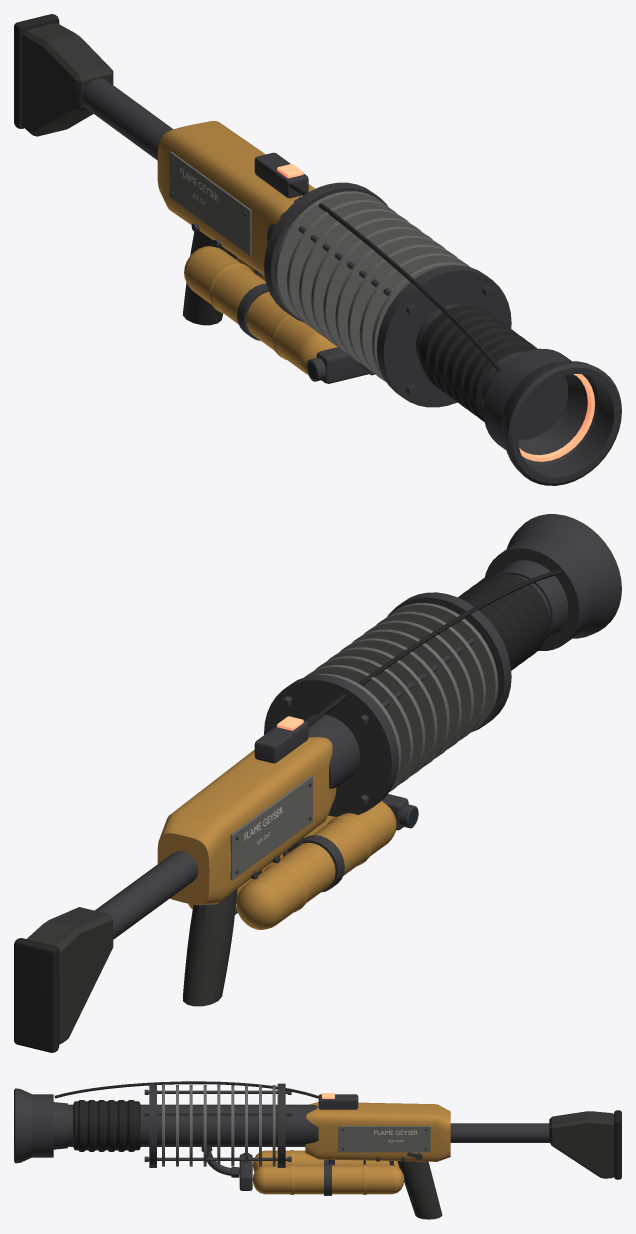
File: geyser.glb
The picture shows the model from 3 angles, top to bottom: view 1: azimuth 30°, elevation 25°; view 2: azimuth 150°, elevation 25°; view 3: azimuth 270°, elevation 25°; orthographic projection. The views are drawn at different scales.
Parts seen in each view (by area): view 1: Body; view 2: Body; view 3: Body.
Boxes of the visible parts, box(x1,y1,x2,y2) form: Body: box(14, 14, 621, 485); Body: box(14, 514, 621, 1052); Body: box(14, 1081, 621, 1219).
Bounding box in the file's own units: 0.128 × 0.2134 × 0.922.
